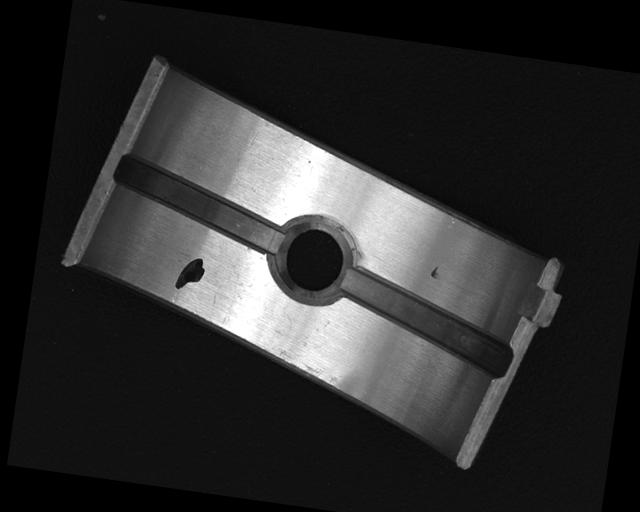blot: (173, 254, 207, 292)
bruise: (429, 264, 439, 279)
gap: (332, 264, 517, 376), (104, 151, 291, 252)
hole: (268, 210, 357, 305)
